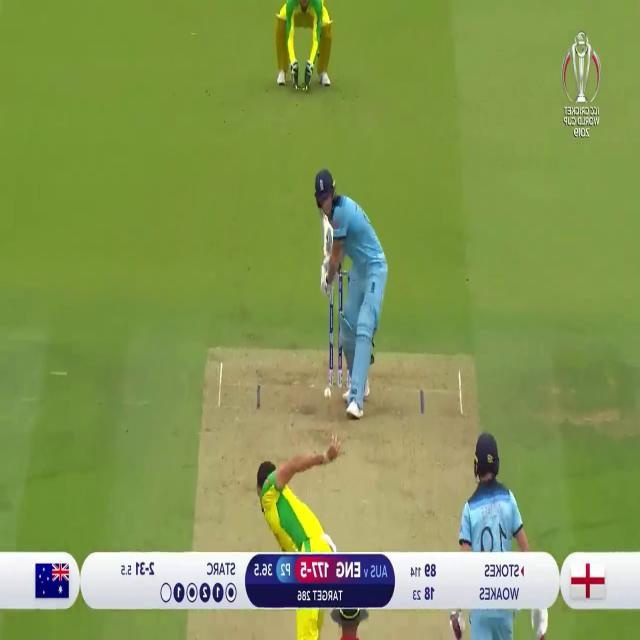ball: (324, 382, 331, 400)
